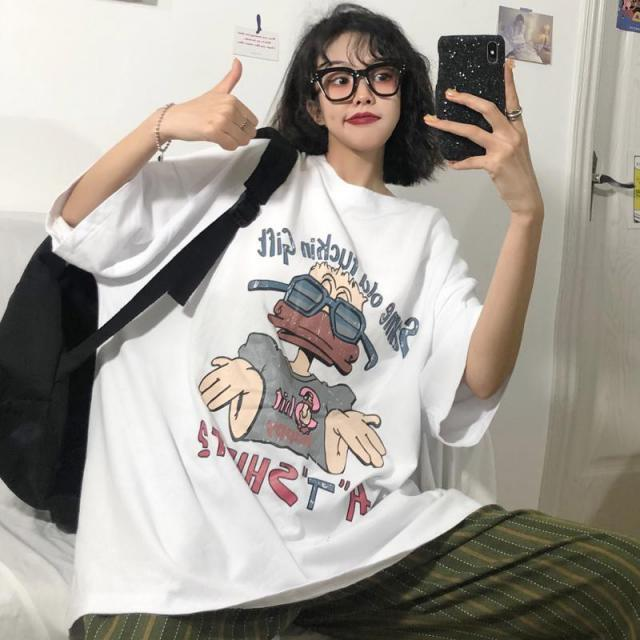Shirt: (39, 123, 527, 626)
